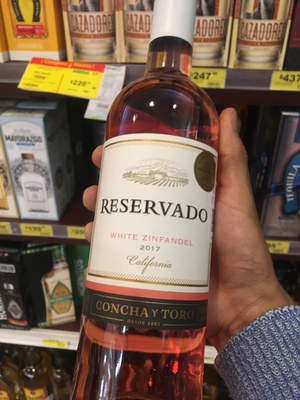reservado white zinfandel: (86, 18, 216, 398)
